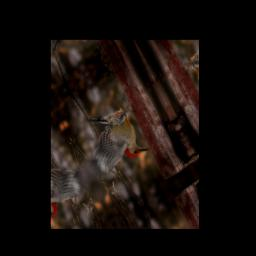Woodpecker: (69, 94, 151, 189)
